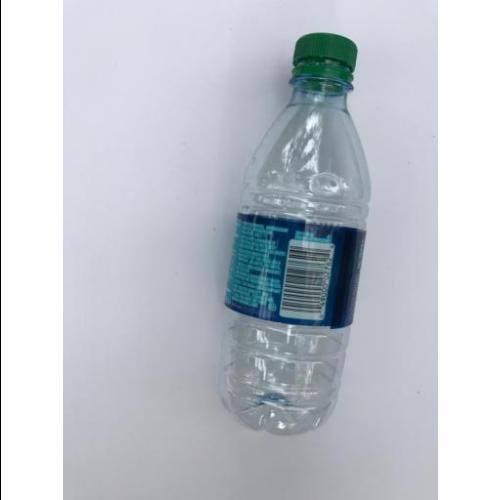plastic: (221, 31, 373, 434)
